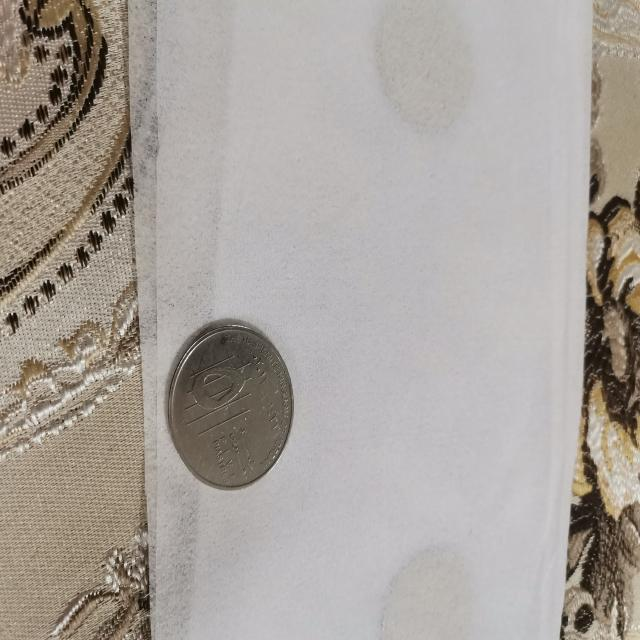5-coins: (167, 319, 298, 494), (372, 0, 477, 134), (378, 543, 480, 640)
